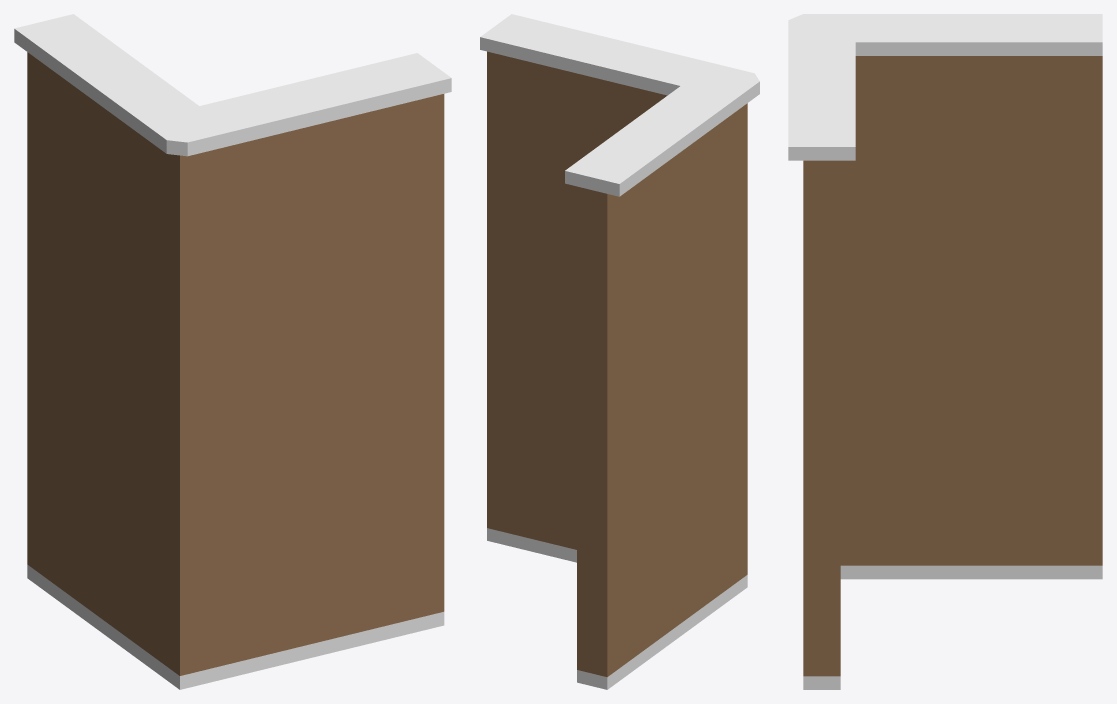
The model's file is SM_4x4m_BasicWall_Corner.fbx.
The picture shows the model from 3 angles, left to right: view 1: azimuth 30°, elevation 25°; view 2: azimuth 150°, elevation 25°; view 3: azimuth 270°, elevation 25°; orthographic projection. The views are drawn at different scales.
Parts seen in each view (by area): view 1: SM_4x4m_BasicWall_Corner.001; view 2: SM_4x4m_BasicWall_Corner.001; view 3: SM_4x4m_BasicWall_Corner.001.
Part boxes in pixels (left/top/right/bottom): SM_4x4m_BasicWall_Corner.001: left=14, top=14, right=451, bottom=689; SM_4x4m_BasicWall_Corner.001: left=480, top=14, right=759, bottom=689; SM_4x4m_BasicWall_Corner.001: left=788, top=14, right=1102, bottom=689.
Bounding box in the file's own units: 210 × 210 × 400.
